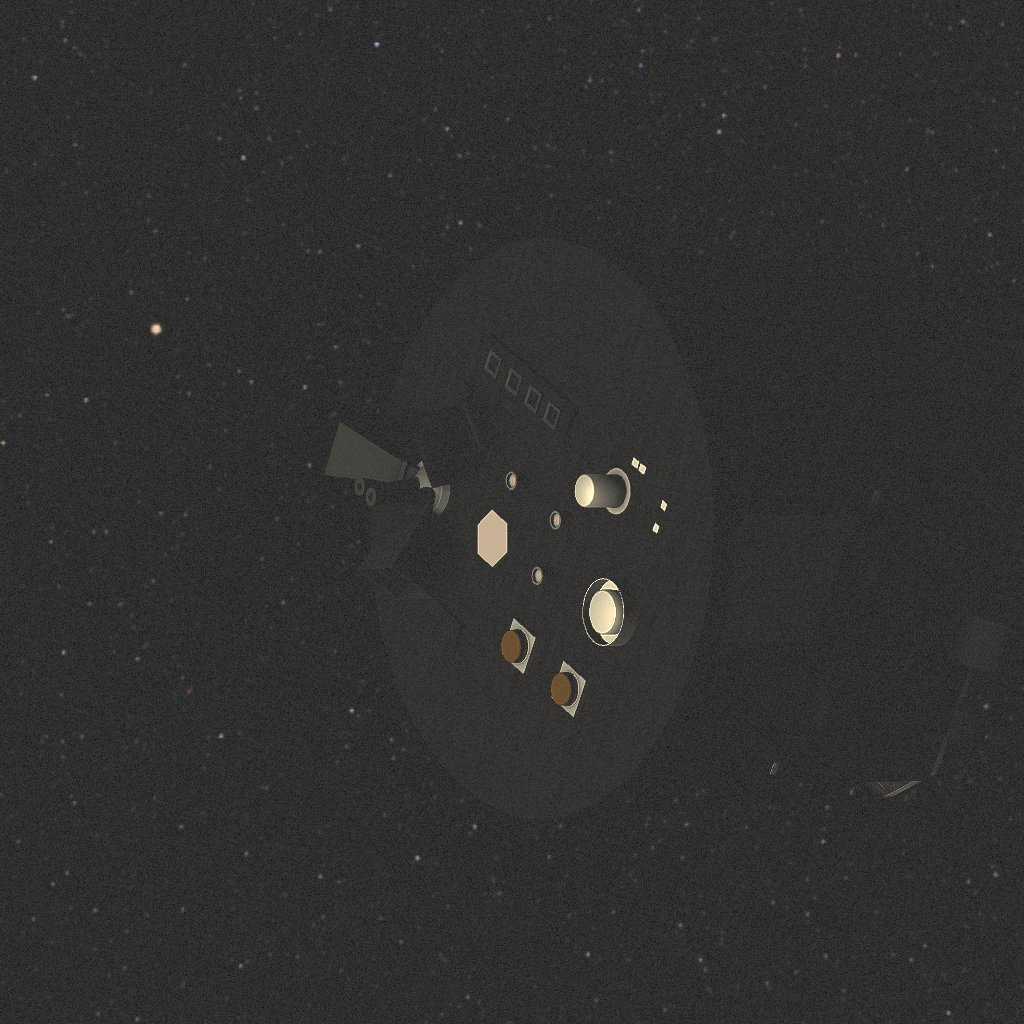proba_3_ocs: (285, 256, 1006, 823)
